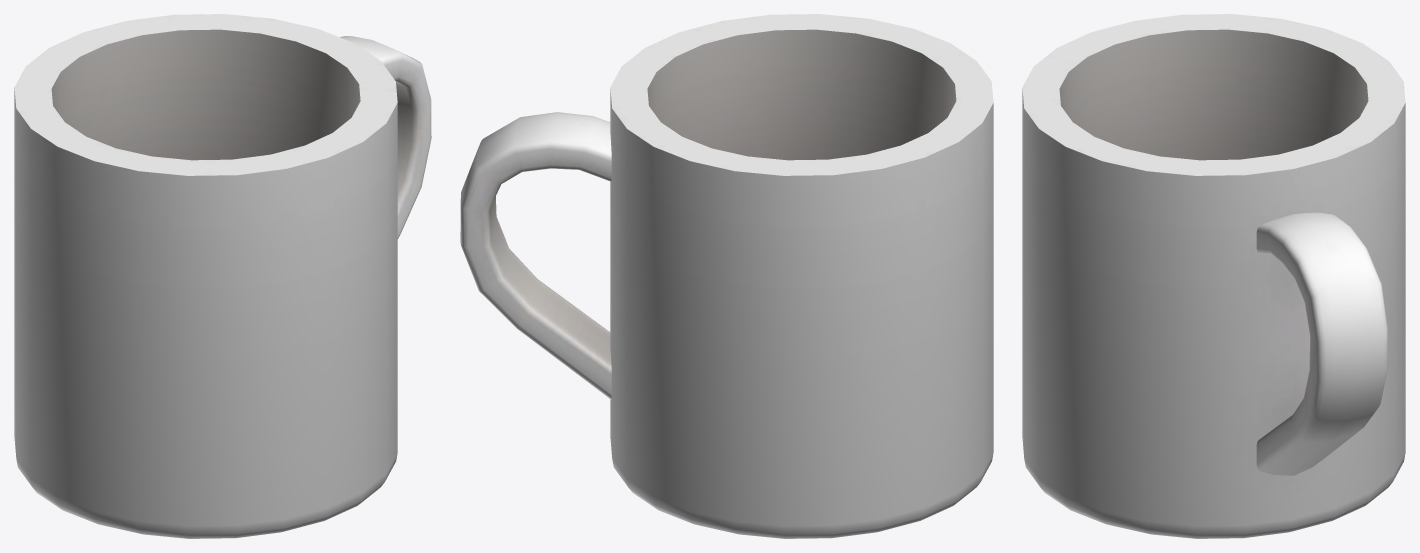
File: cup.fbx
3 renders of one model, left to right at view 1: azimuth 30°, elevation 25°; view 2: azimuth 150°, elevation 25°; view 3: azimuth 270°, elevation 25°, orthographic.
Parts seen in each view (by area): view 1: cup; view 2: cup; view 3: cup.
Boxes of the visible parts, x1,y1,x2,y2 form: cup: (14,14,431,538); cup: (460,14,993,538); cup: (1022,14,1405,538).
Size of the model in its own units: 0.1583 by 0.1259 by 0.118.
Materials: 1 (1 with a texture image).
